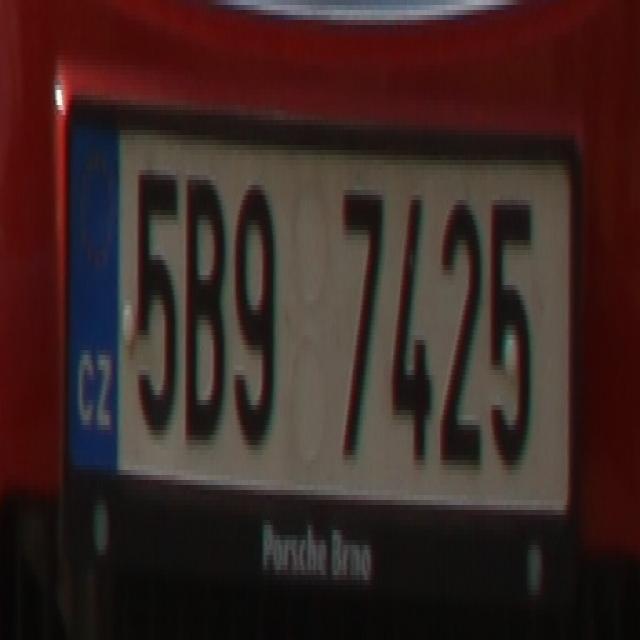2: (440, 185, 484, 490)
4: (389, 180, 430, 480)
5: (483, 195, 539, 460), (135, 155, 177, 435)
7: (338, 180, 383, 460)
9: (226, 170, 282, 450)
B: (178, 165, 225, 435)
